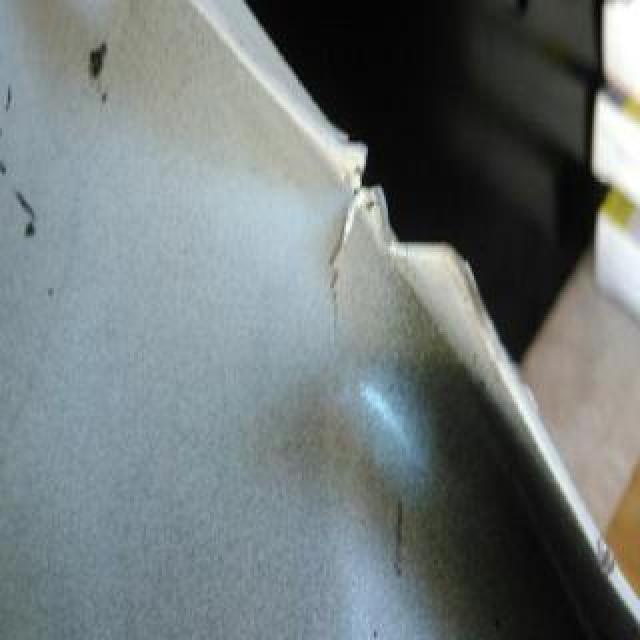crack: (329, 145, 385, 353)
